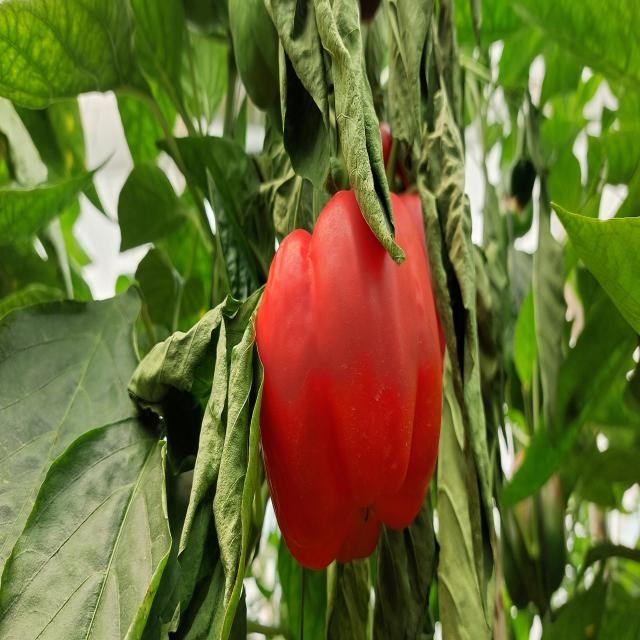Red-Ready-to-Harvest: (252, 155, 450, 567)
